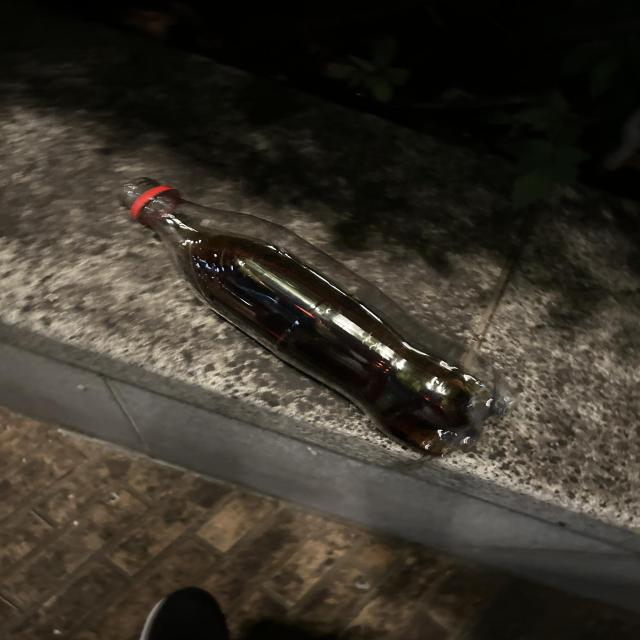medium: (120, 178, 512, 455)
